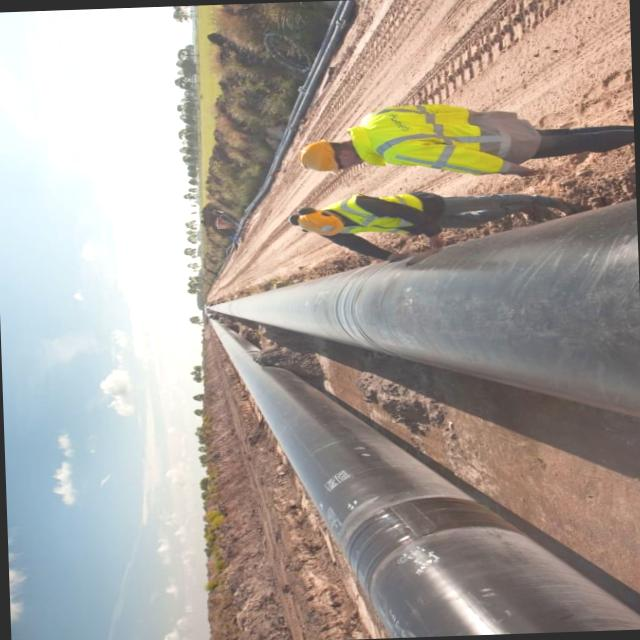gas: (204, 314, 640, 638), (210, 197, 632, 415)
